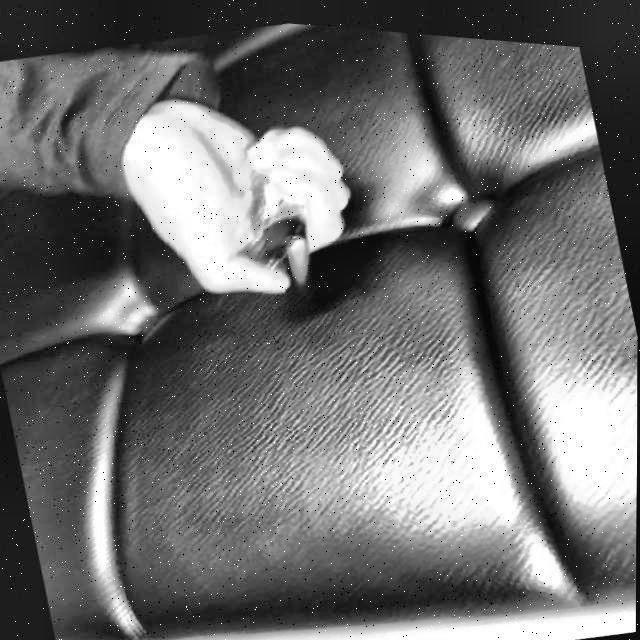Fire: (284, 229, 315, 282)
